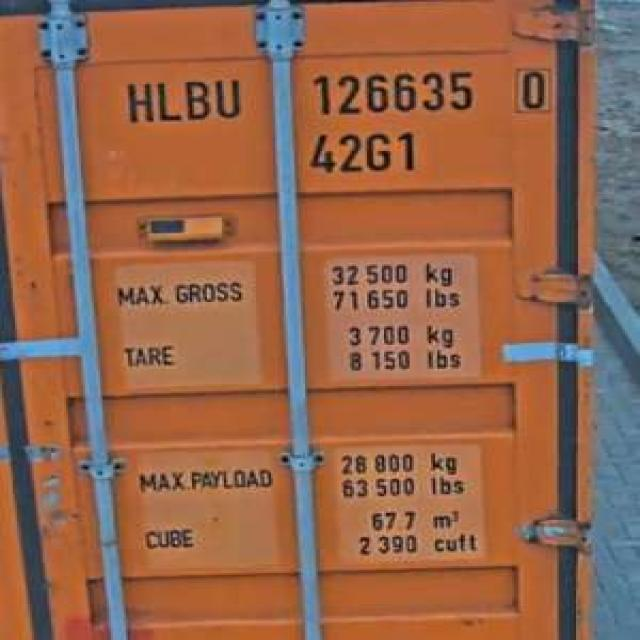dv: (508, 62, 552, 115)
owner: (120, 72, 246, 124)
serial: (305, 65, 478, 118)
size: (303, 125, 422, 177)
